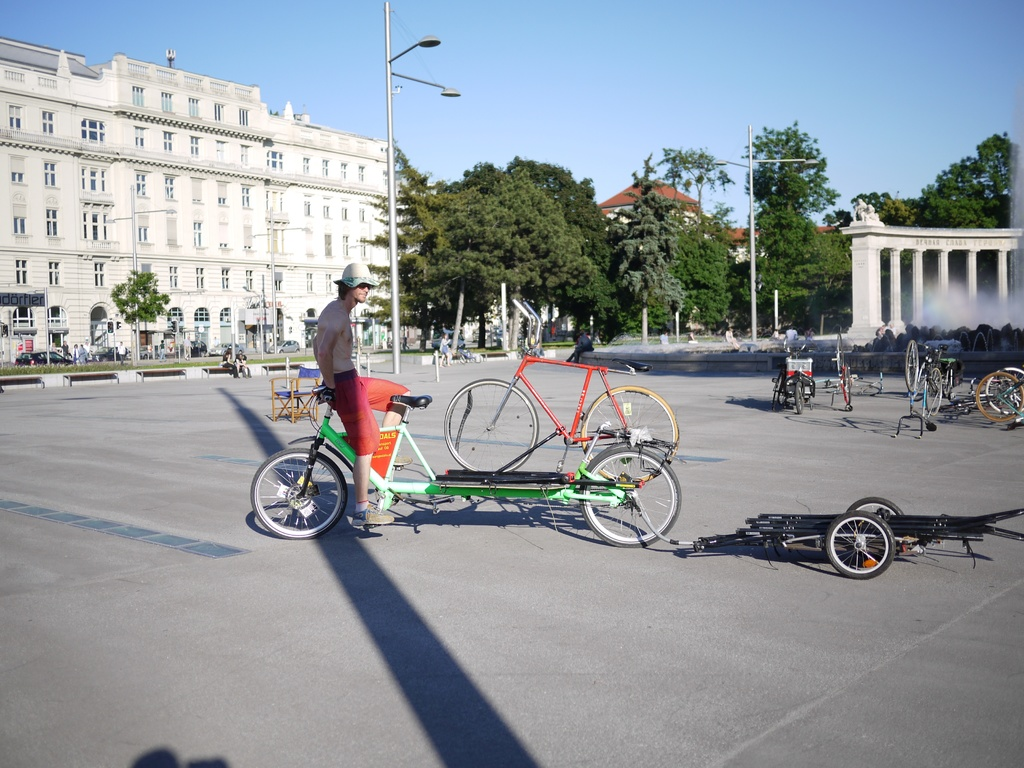Bicycle: (248, 382, 682, 546), (441, 293, 683, 488), (736, 488, 967, 579), (928, 360, 1022, 430), (901, 340, 951, 447), (946, 365, 1023, 426), (764, 340, 811, 412), (827, 324, 858, 415)
